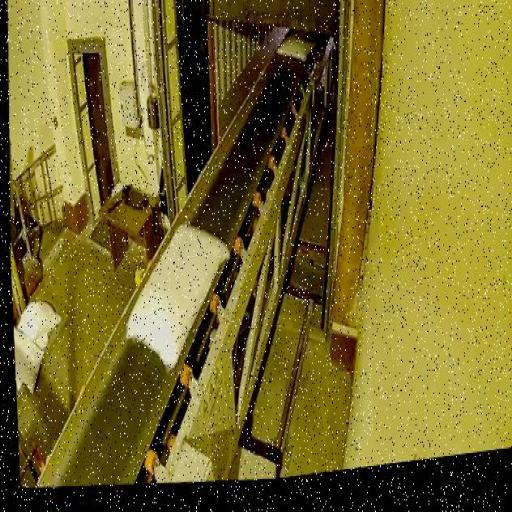c-belt-sack-count: (128, 227, 227, 368), (278, 35, 314, 62)
